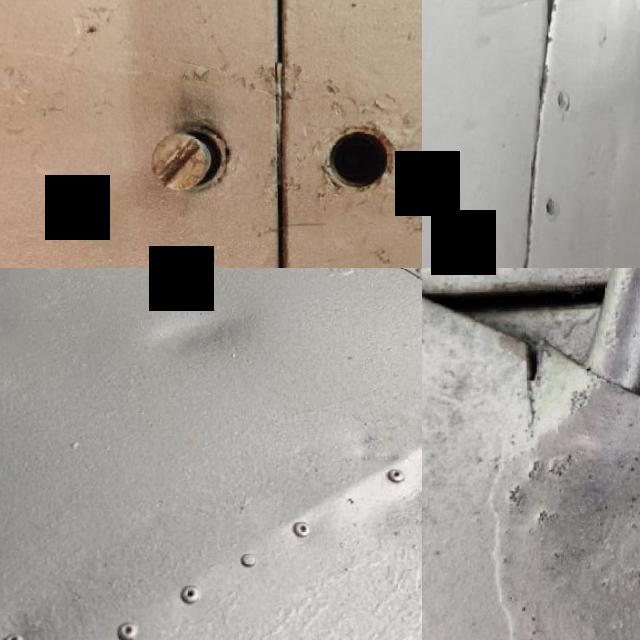Crack: (482, 320, 573, 444), (532, 0, 596, 37)
Dent: (115, 268, 284, 405), (319, 405, 422, 566)
Missing_Fastener: (280, 73, 422, 240), (540, 200, 556, 220)
